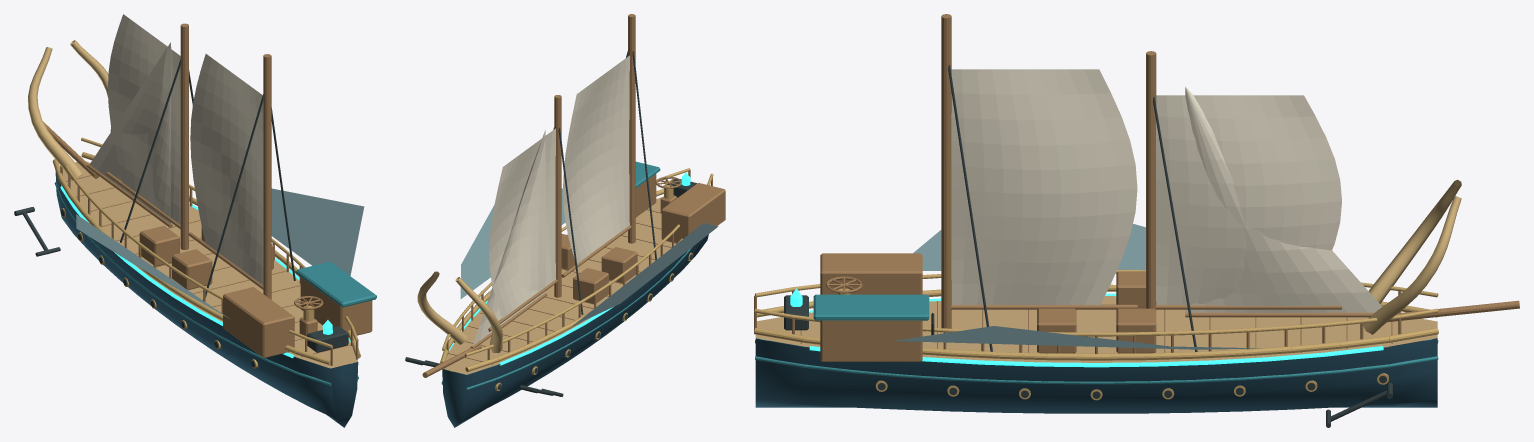
The model's file is ship_schooner.glb.
3 renders of one model, left to right at view 1: azimuth 30°, elevation 25°; view 2: azimuth 150°, elevation 25°; view 3: azimuth 270°, elevation 25°, orthographic. The views are drawn at different scales.
Parts seen in each view (by area): view 1: ship_schooner; view 2: ship_schooner; view 3: ship_schooner.
Boxes of the visible parts, x1,y1,x2,y2 form: ship_schooner: (14,14,376,427); ship_schooner: (405,14,725,427); ship_schooner: (754,14,1519,427).
Bounding box in the file's own units: 5.85 × 7.6 × 13.47.
